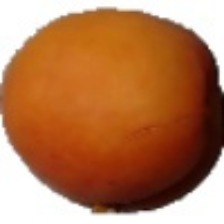apricot: (38, 26, 186, 219)
